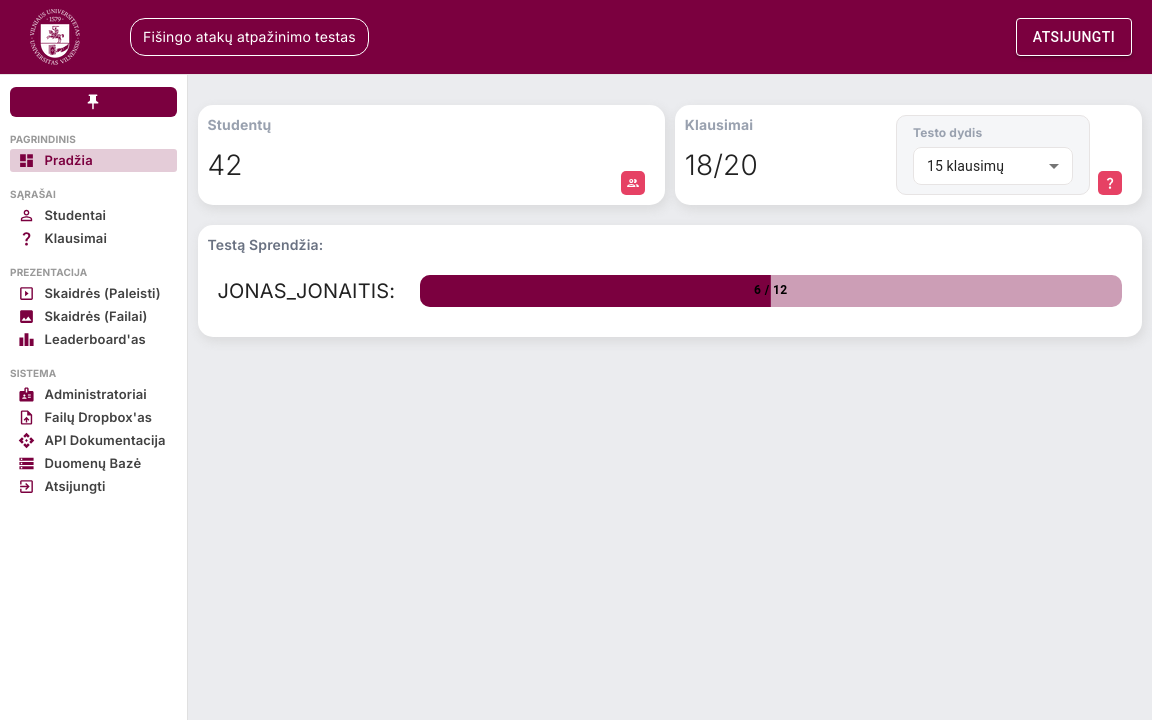
Scenario: Home — the test-size picker › offers 9, 12, 15, 21 and 30 questions, the saved size selected
Expected: the text "Studentų" is shown, [208,115,271,135]
Click the dropdown labelled "15 klausimų": [966, 166] box [927,158,1004,174]
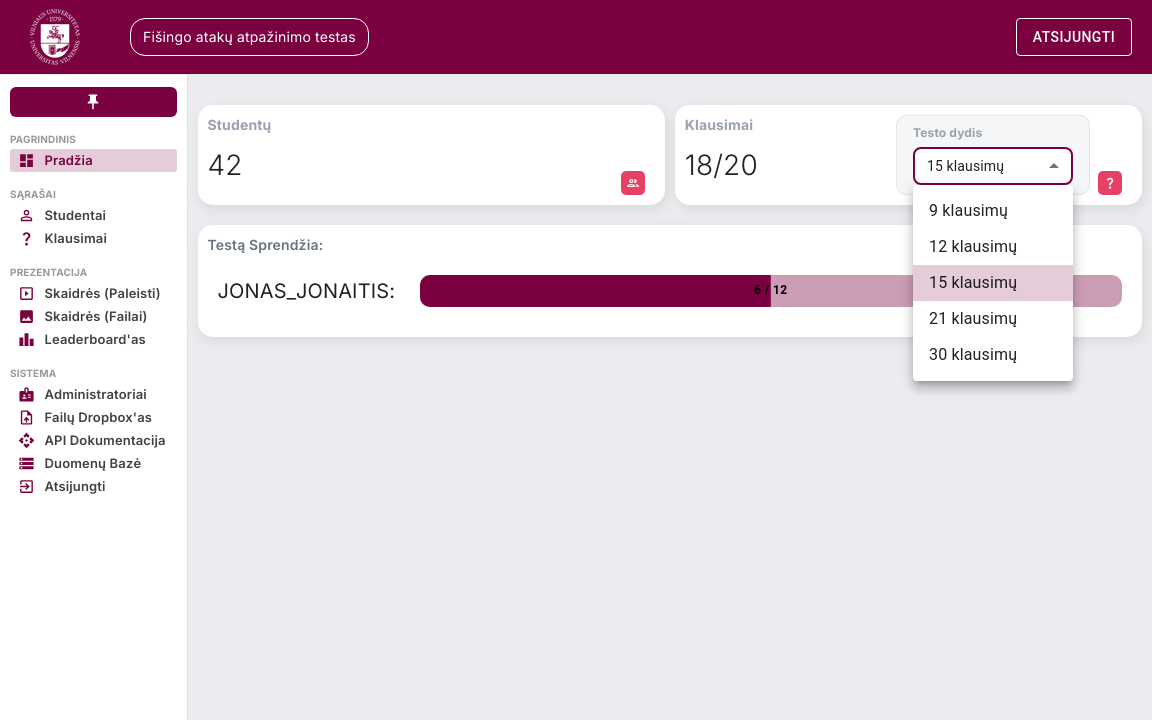
Expected: the options read "9 klausimų", "12 klausimų", "15 klausimų", "21 klausimų", "30 klausimų", in this order, [929,201,1008,220]; [929,237,1017,256]; [913,265,1073,301]; [929,309,1017,328]; [929,345,1017,364]
